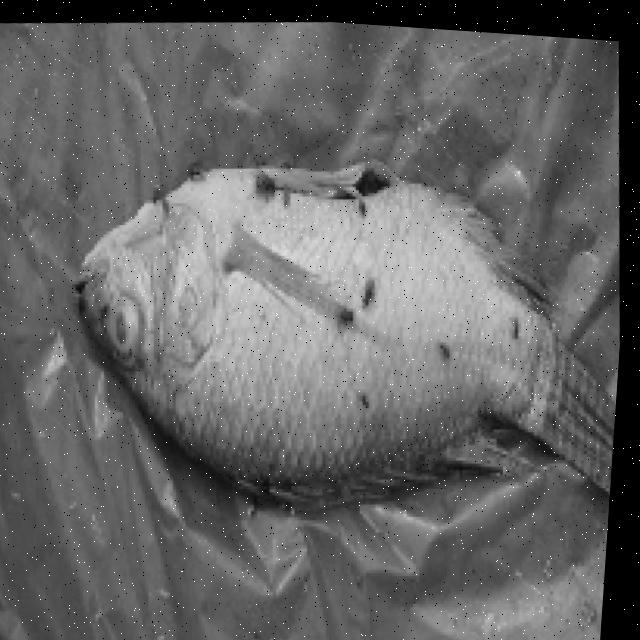Non-Fresh: (58, 171, 516, 471)
